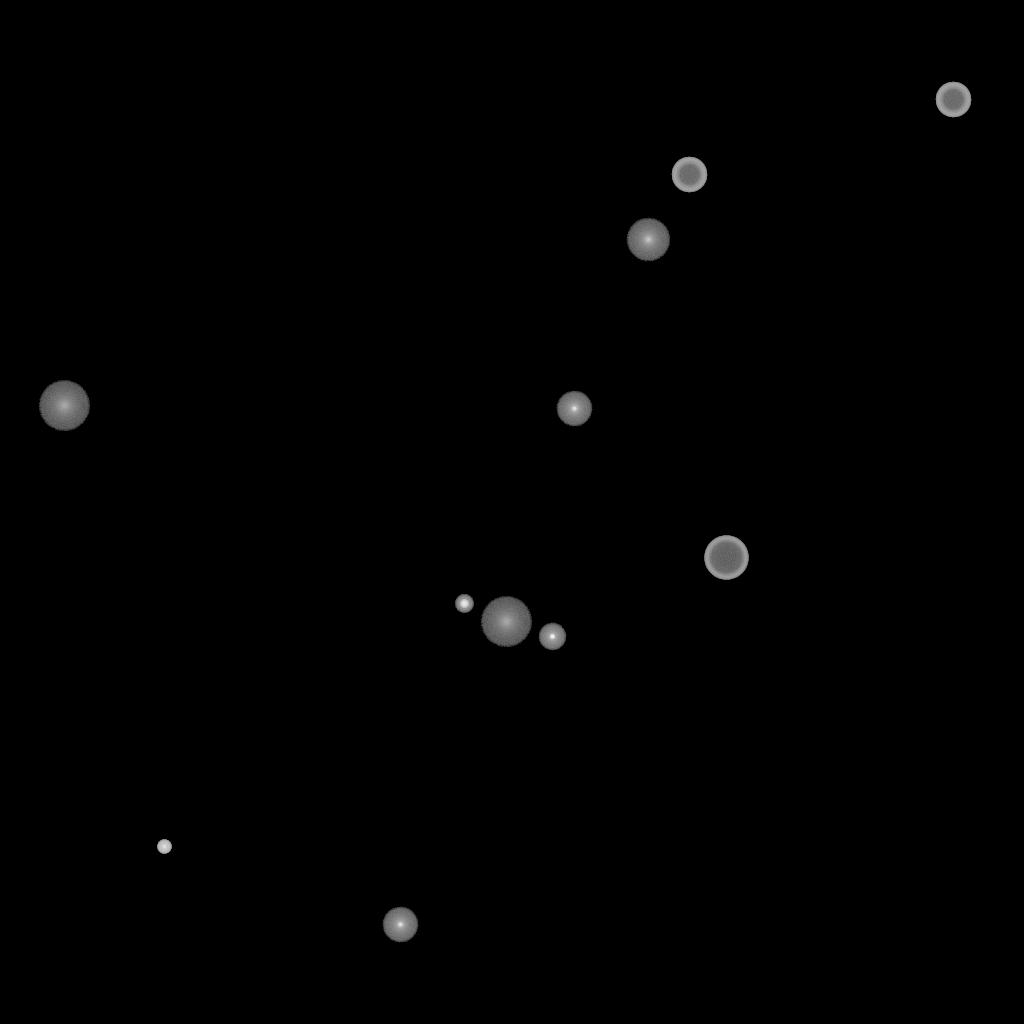depth:-10: (538, 623, 566, 651)
depth:-20: (455, 595, 473, 613)
depth:-30: (157, 840, 171, 854)
depth:-60: (671, 157, 707, 193), (935, 82, 971, 118)
depth:-70: (704, 536, 748, 580)
depth:0: (382, 907, 418, 943), (556, 391, 592, 427)
depth:10: (626, 218, 670, 262)
depth:20: (38, 381, 90, 431), (480, 597, 532, 647)
